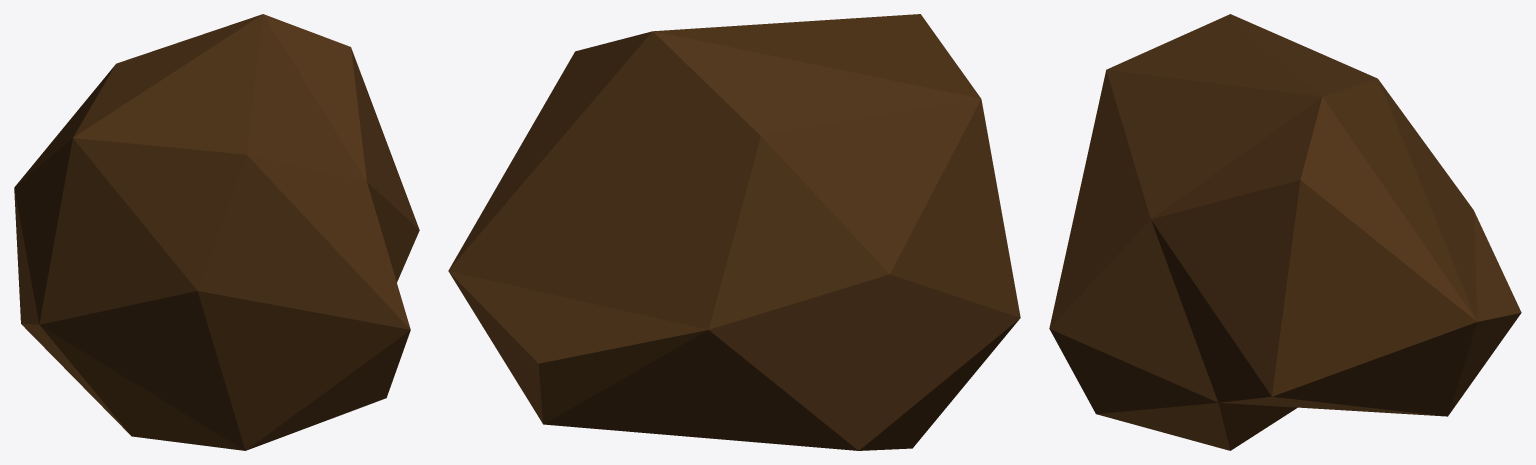
The model's file is asteroid3.fbx.
3 views of the same model, side by side, from view 1: azimuth 30°, elevation 25°; view 2: azimuth 150°, elevation 25°; view 3: azimuth 270°, elevation 25° (orthographic). The views are drawn at different scales.
Parts seen in each view (by area): view 1: quickmaterial1; view 2: quickmaterial1; view 3: quickmaterial1.
Part boxes in pixels (bbox=[...]): quickmaterial1: bbox=[14, 14, 419, 450]; quickmaterial1: bbox=[448, 14, 1020, 450]; quickmaterial1: bbox=[1049, 14, 1521, 450].
Bounding box in the file's own units: 1.9 × 1.68 × 1.9.
